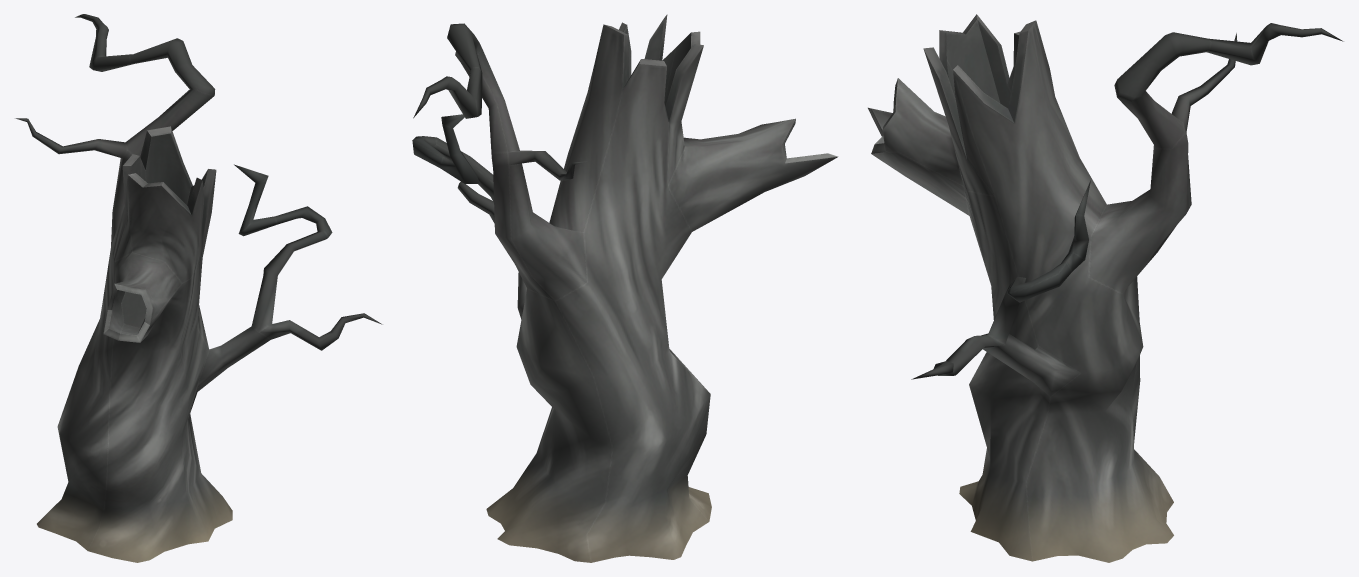
File: Tree_4.FBX
3 renders of one model, left to right at view 1: azimuth 30°, elevation 25°; view 2: azimuth 150°, elevation 25°; view 3: azimuth 270°, elevation 25°, orthographic. The views are drawn at different scales.
Parts seen in each view (by area): view 1: Tree_4; view 2: Tree_4; view 3: Tree_4.
Boxes of the visible parts, bbox=[...] form: Tree_4: bbox=[15, 14, 382, 562]; Tree_4: bbox=[412, 14, 838, 562]; Tree_4: bbox=[868, 14, 1343, 562].
Size of the model in its own units: 772 by 1062 by 872.
